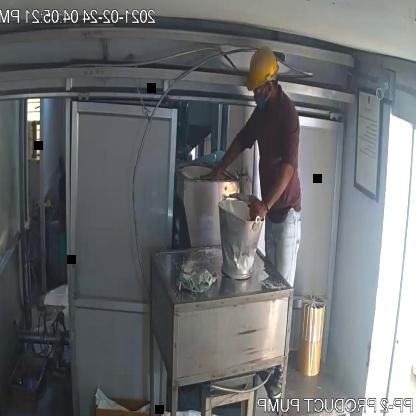helmet: (243, 42, 286, 97)
